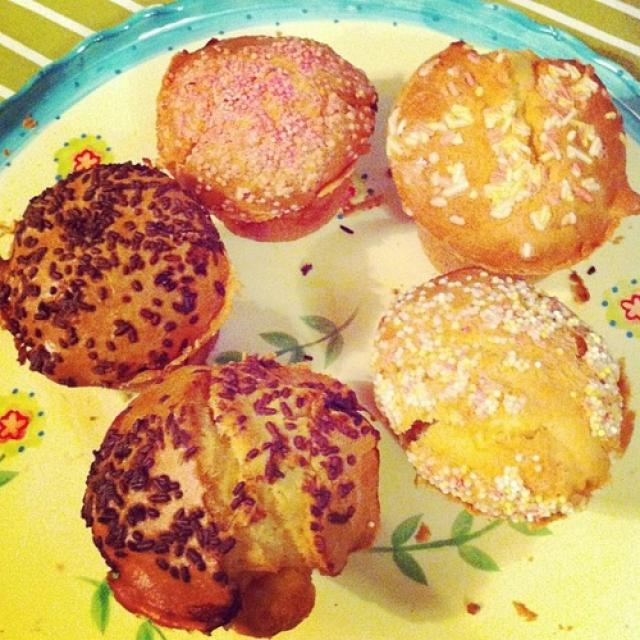炸货点心: (9, 23, 630, 621)
面包点心: (9, 23, 630, 621)
